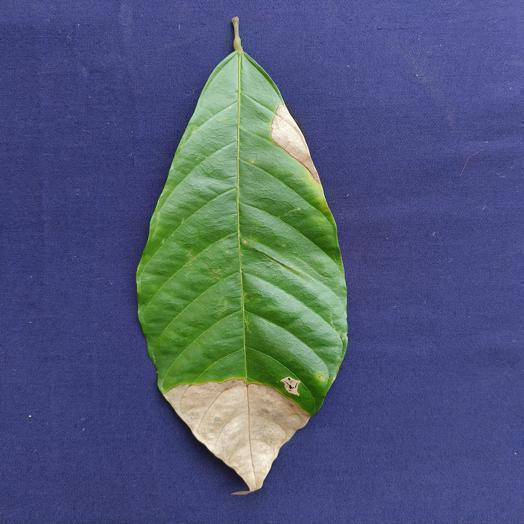Potassium: (137, 17, 346, 491)
